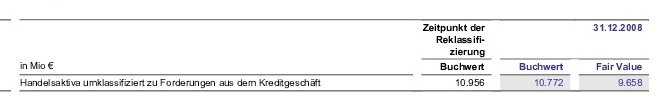table: (0, 0, 666, 101)
